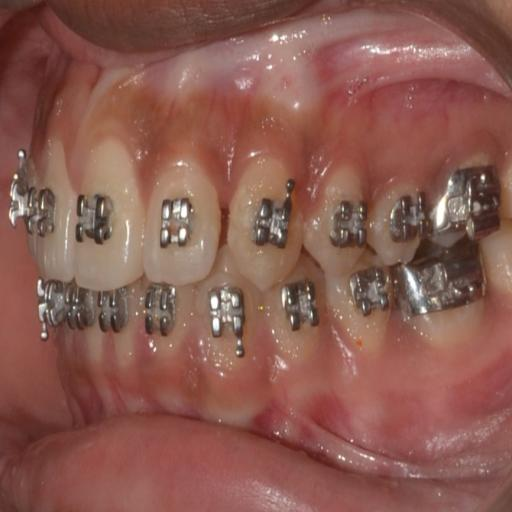correct_brace: (305, 159, 369, 277), (249, 182, 297, 265), (76, 184, 118, 256), (156, 194, 196, 258)
incorrect_brace: (146, 161, 219, 283), (328, 195, 366, 255)
